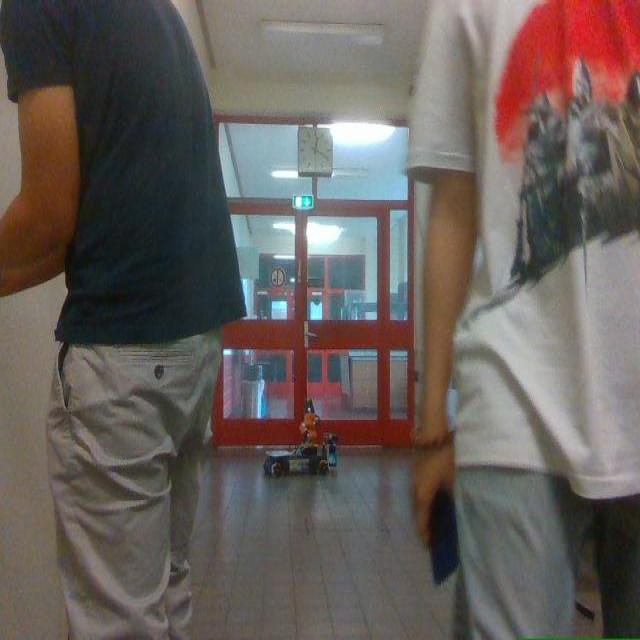humans: (0, 0, 244, 639), (407, 0, 639, 639)
objects: (263, 400, 336, 473)
